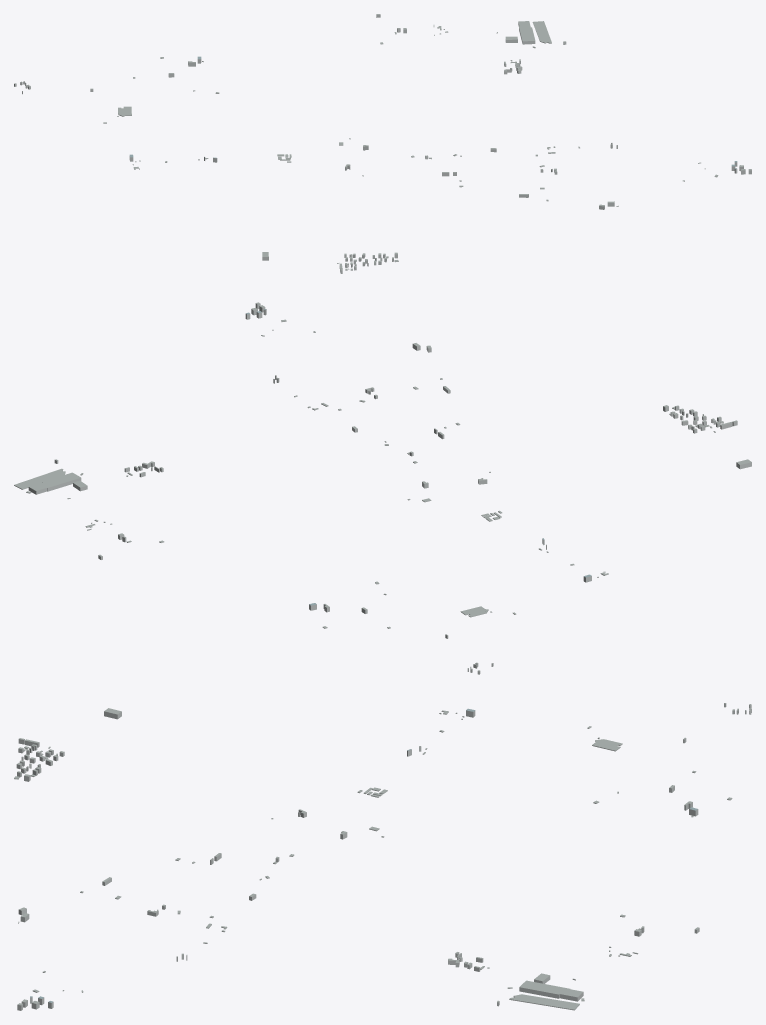
File: far.glb
The picture shows the model from 3 angles, top to bottom: view 1: azimuth 30°, elevation 25°; view 2: azimuth 150°, elevation 25°; view 3: azimuth 270°, elevation 25°; orthographic projection. The views are drawn at different scales.
Size of the model in its own units: 2044 by 19.7 by 2096.
